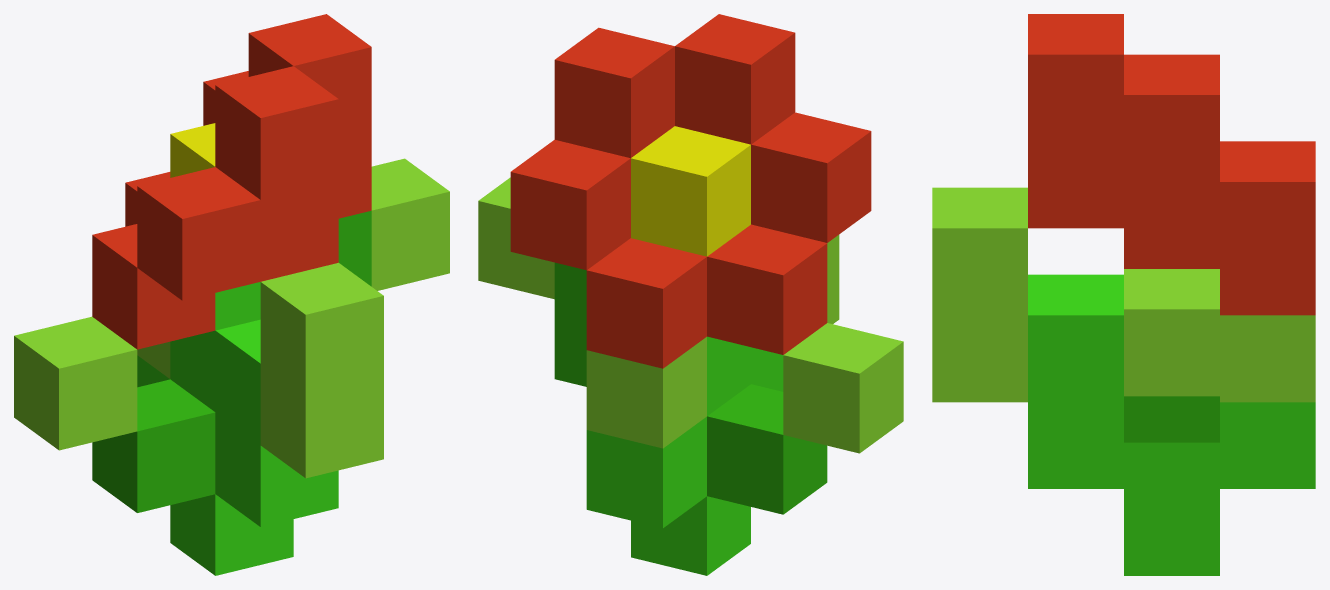
File: tile-59.obj
3 renders of one model, left to right at view 1: azimuth 30°, elevation 25°; view 2: azimuth 150°, elevation 25°; view 3: azimuth 270°, elevation 25°, orthographic. The views are drawn at different scales.
Size of the model in its own units: 0.5 by 0.6 by 0.4.
1 material, 1 textured.
